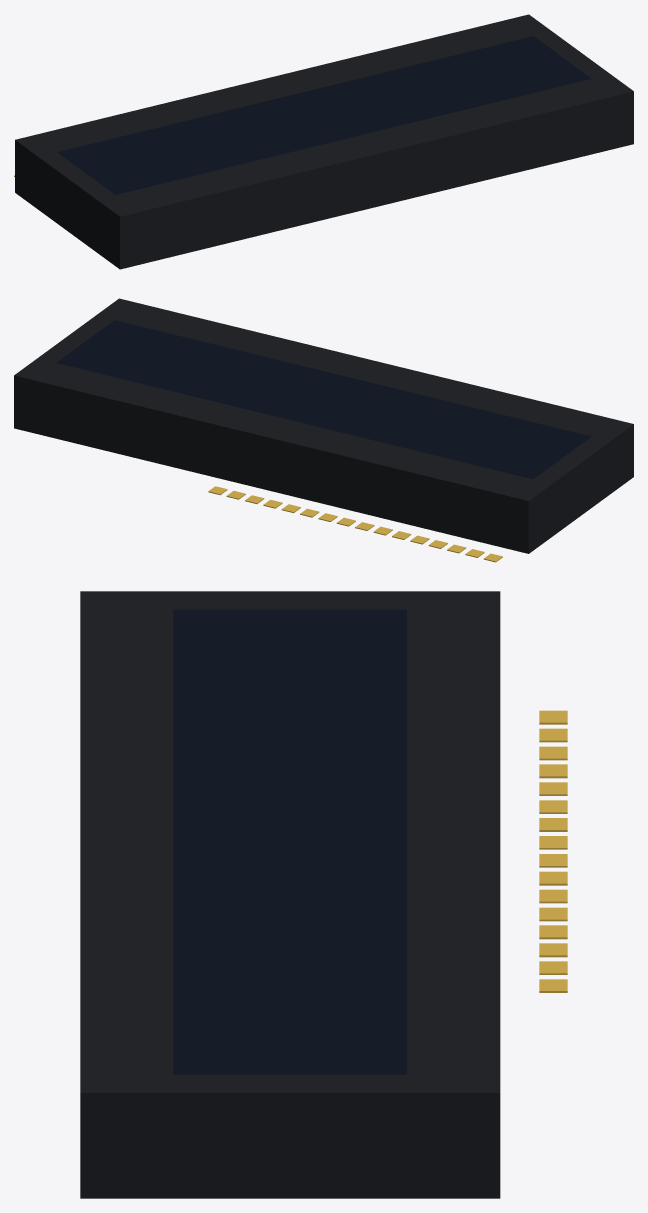
3 renders of one model, top to bottom at view 1: azimuth 30°, elevation 25°; view 2: azimuth 150°, elevation 25°; view 3: azimuth 270°, elevation 25°, orthographic. The views are drawn at different scales.
Visible parts, largest first — view 1: object 1, glass; view 2: object 1, glass, object 3; view 3: object 1, glass, object 3.
Part boxes in pixels (x1,y1,x2,y2): object 1: (15,14,633,269); glass: (57,36,591,194); object 1: (14,298,633,553); glass: (56,320,591,479); object 3: (208,486,502,562); object 1: (80,591,500,1198); glass: (173,609,406,1074); object 3: (539,710,567,992).
Bounding box in the file's own units: 0.0712 × 0.007 × 0.0293.
